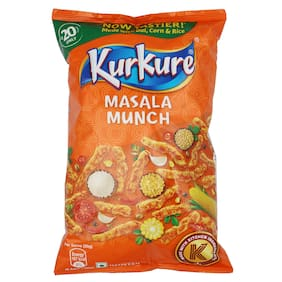kurkure: (86, 44, 195, 84)
plastic: (59, 18, 223, 282)
